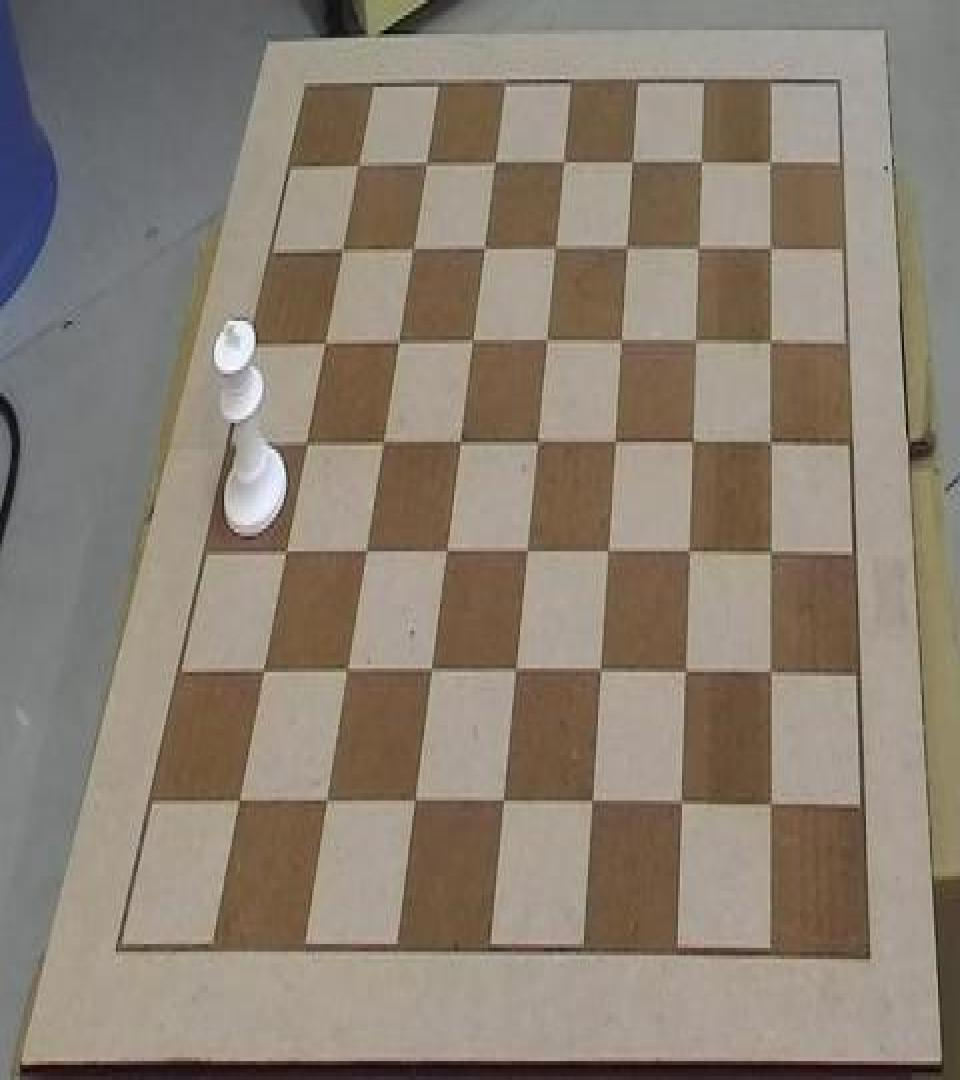xcorner: (763, 147, 783, 185), (693, 147, 713, 185), (624, 147, 644, 185), (555, 147, 575, 185), (485, 147, 505, 185), (416, 147, 436, 185), (347, 149, 367, 187), (763, 232, 783, 270), (691, 232, 711, 270), (619, 232, 639, 270), (547, 232, 567, 270), (475, 232, 495, 270), (403, 232, 423, 270), (331, 232, 351, 270), (764, 322, 784, 360), (688, 324, 708, 362), (613, 324, 633, 362), (538, 324, 558, 362), (463, 324, 483, 362), (389, 324, 409, 362), (314, 324, 334, 362), (764, 424, 784, 462), (686, 424, 706, 462), (607, 424, 627, 462), (529, 424, 549, 462), (451, 424, 471, 462), (373, 424, 393, 462), (295, 424, 315, 462), (765, 532, 785, 570), (683, 532, 703, 570), (601, 532, 621, 570), (519, 534, 539, 572), (437, 534, 457, 572), (356, 534, 376, 572), (274, 534, 294, 572), (765, 653, 785, 691), (679, 653, 699, 691), (594, 653, 614, 691), (508, 653, 528, 691), (422, 653, 442, 691), (337, 653, 357, 691), (252, 653, 272, 691), (766, 786, 786, 824), (676, 784, 696, 822), (586, 784, 606, 822), (496, 784, 516, 822), (406, 784, 426, 822), (317, 784, 337, 822), (227, 784, 247, 822)
